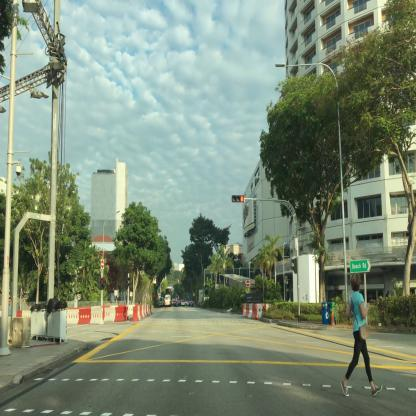red_traffic_light: (232, 194, 244, 204)
